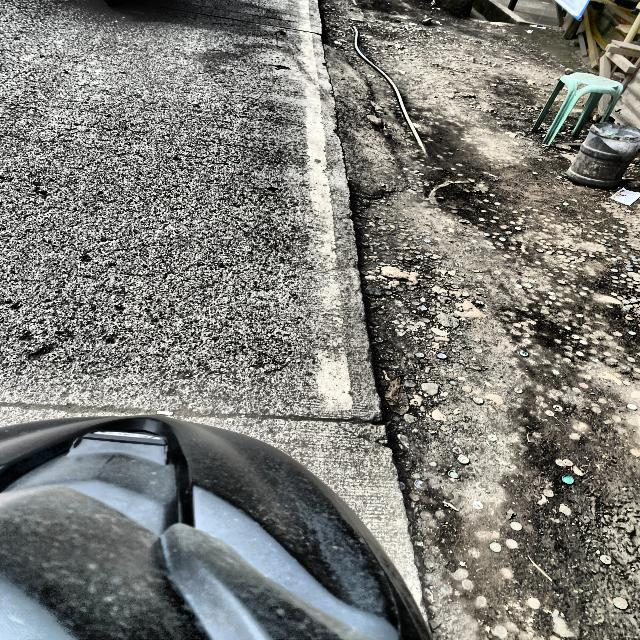no_or_faded_road_markings: (296, 0, 379, 421)
